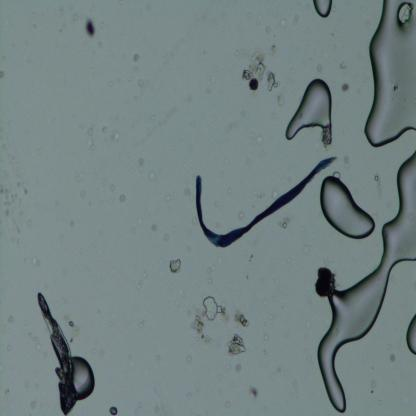Air bubble: (316, 147, 416, 415), (363, 0, 416, 147), (320, 173, 376, 240), (285, 78, 333, 140), (73, 354, 97, 403), (404, 308, 416, 356), (395, 3, 414, 30), (312, 0, 334, 19), (109, 406, 118, 414)
Background material: (240, 50, 279, 92), (0, 166, 29, 220), (312, 262, 335, 303), (200, 294, 227, 322), (193, 315, 211, 344), (226, 334, 246, 354), (233, 308, 250, 329), (102, 126, 119, 144), (168, 256, 182, 276), (86, 127, 96, 152), (250, 128, 263, 147), (85, 19, 96, 40), (337, 58, 350, 72), (278, 216, 290, 231), (29, 254, 42, 267), (249, 384, 260, 399), (5, 312, 16, 326), (136, 73, 146, 88), (147, 168, 156, 183), (231, 362, 244, 372), (277, 92, 285, 108), (340, 82, 350, 94), (238, 209, 247, 222), (132, 51, 141, 63), (118, 194, 127, 206), (389, 353, 397, 364), (68, 216, 76, 227), (186, 352, 193, 364), (316, 63, 325, 72)
Cellulose filter fibre: (34, 291, 74, 410)
Cotton: (195, 154, 338, 249)
Salt: (216, 305, 222, 314)
